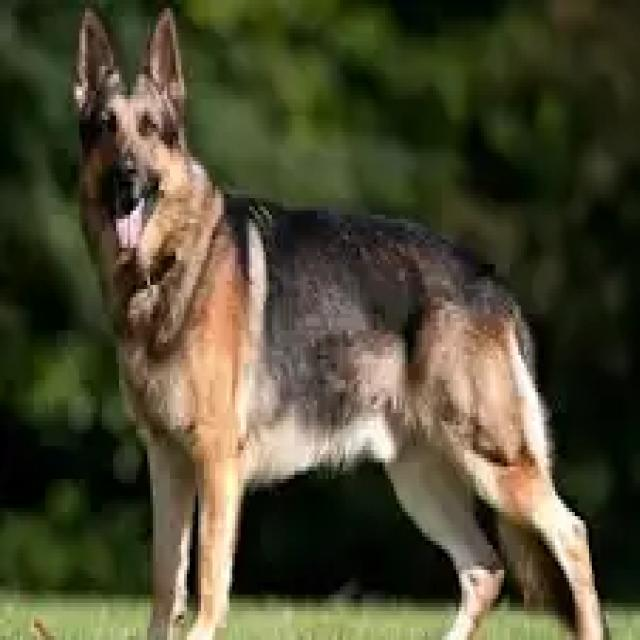dog: (64, 6, 611, 640)
